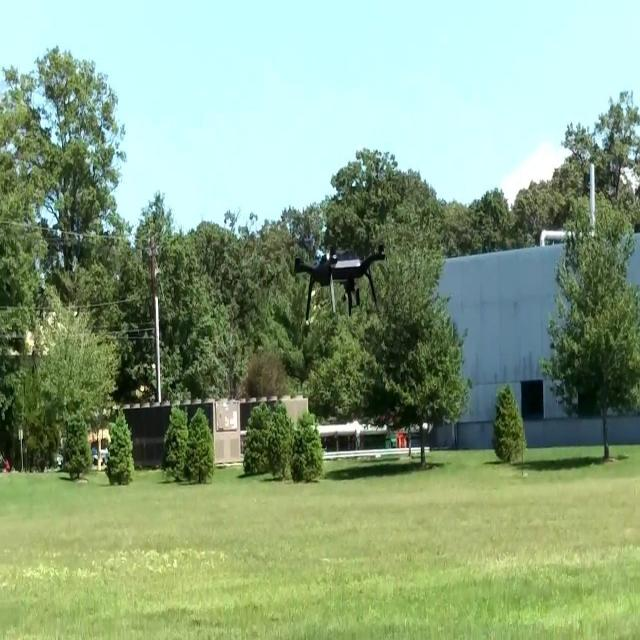drone: (283, 234, 386, 318)
